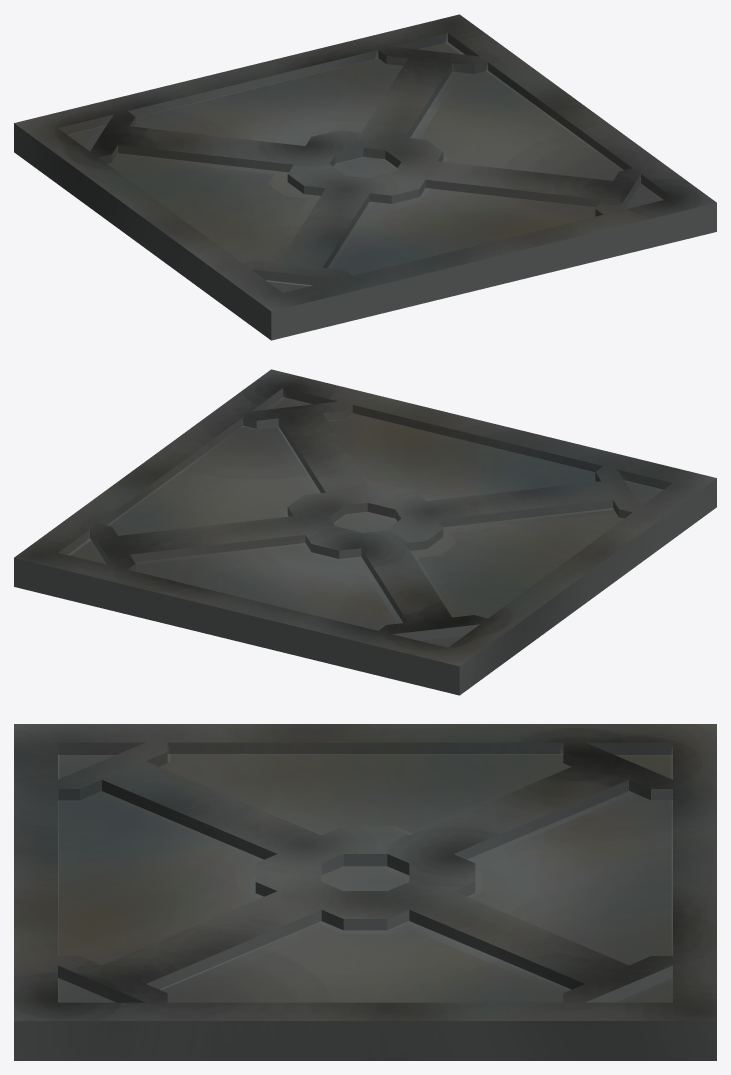
Rendered from wall8.glb.
3 renders of one model, top to bottom at view 1: azimuth 30°, elevation 25°; view 2: azimuth 150°, elevation 25°; view 3: azimuth 270°, elevation 25°, orthographic. The views are drawn at different scales.
Parts seen in each view (by area): view 1: Cube; view 2: Cube; view 3: Cube.
Boxes of the visible parts, <box> form: Cube: <box>14,14,716,340</box>; Cube: <box>14,369,716,695</box>; Cube: <box>14,724,716,1060</box>.
Size of the model in its own units: 2 by 0.125 by 2.
1 material, 1 textured.
